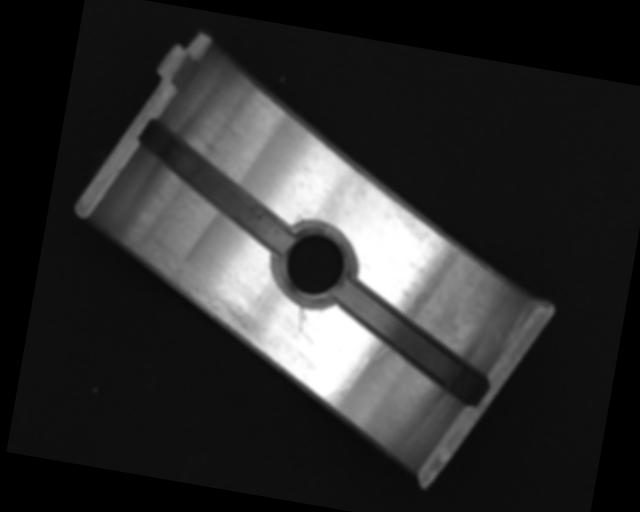gap: (123, 118, 307, 255), (325, 281, 499, 405)
hole: (270, 218, 360, 310)
nick: (324, 350, 369, 409), (294, 307, 307, 333)
scratch: (116, 234, 276, 348)
